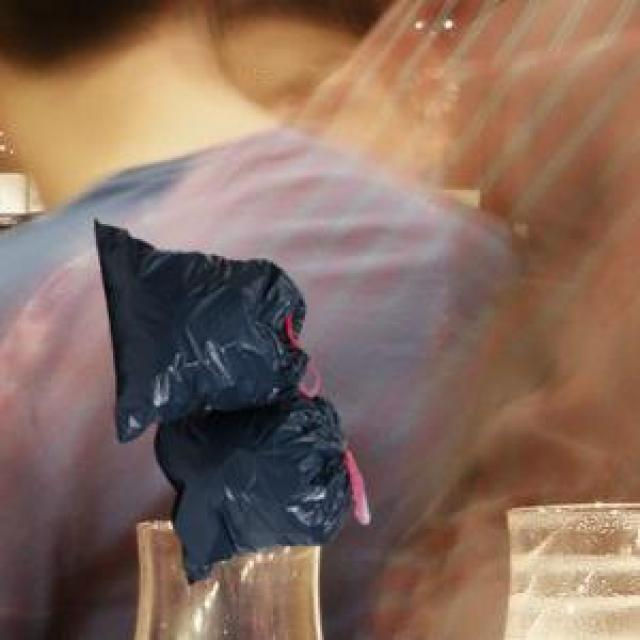Vinyl: (96, 220, 348, 580)
